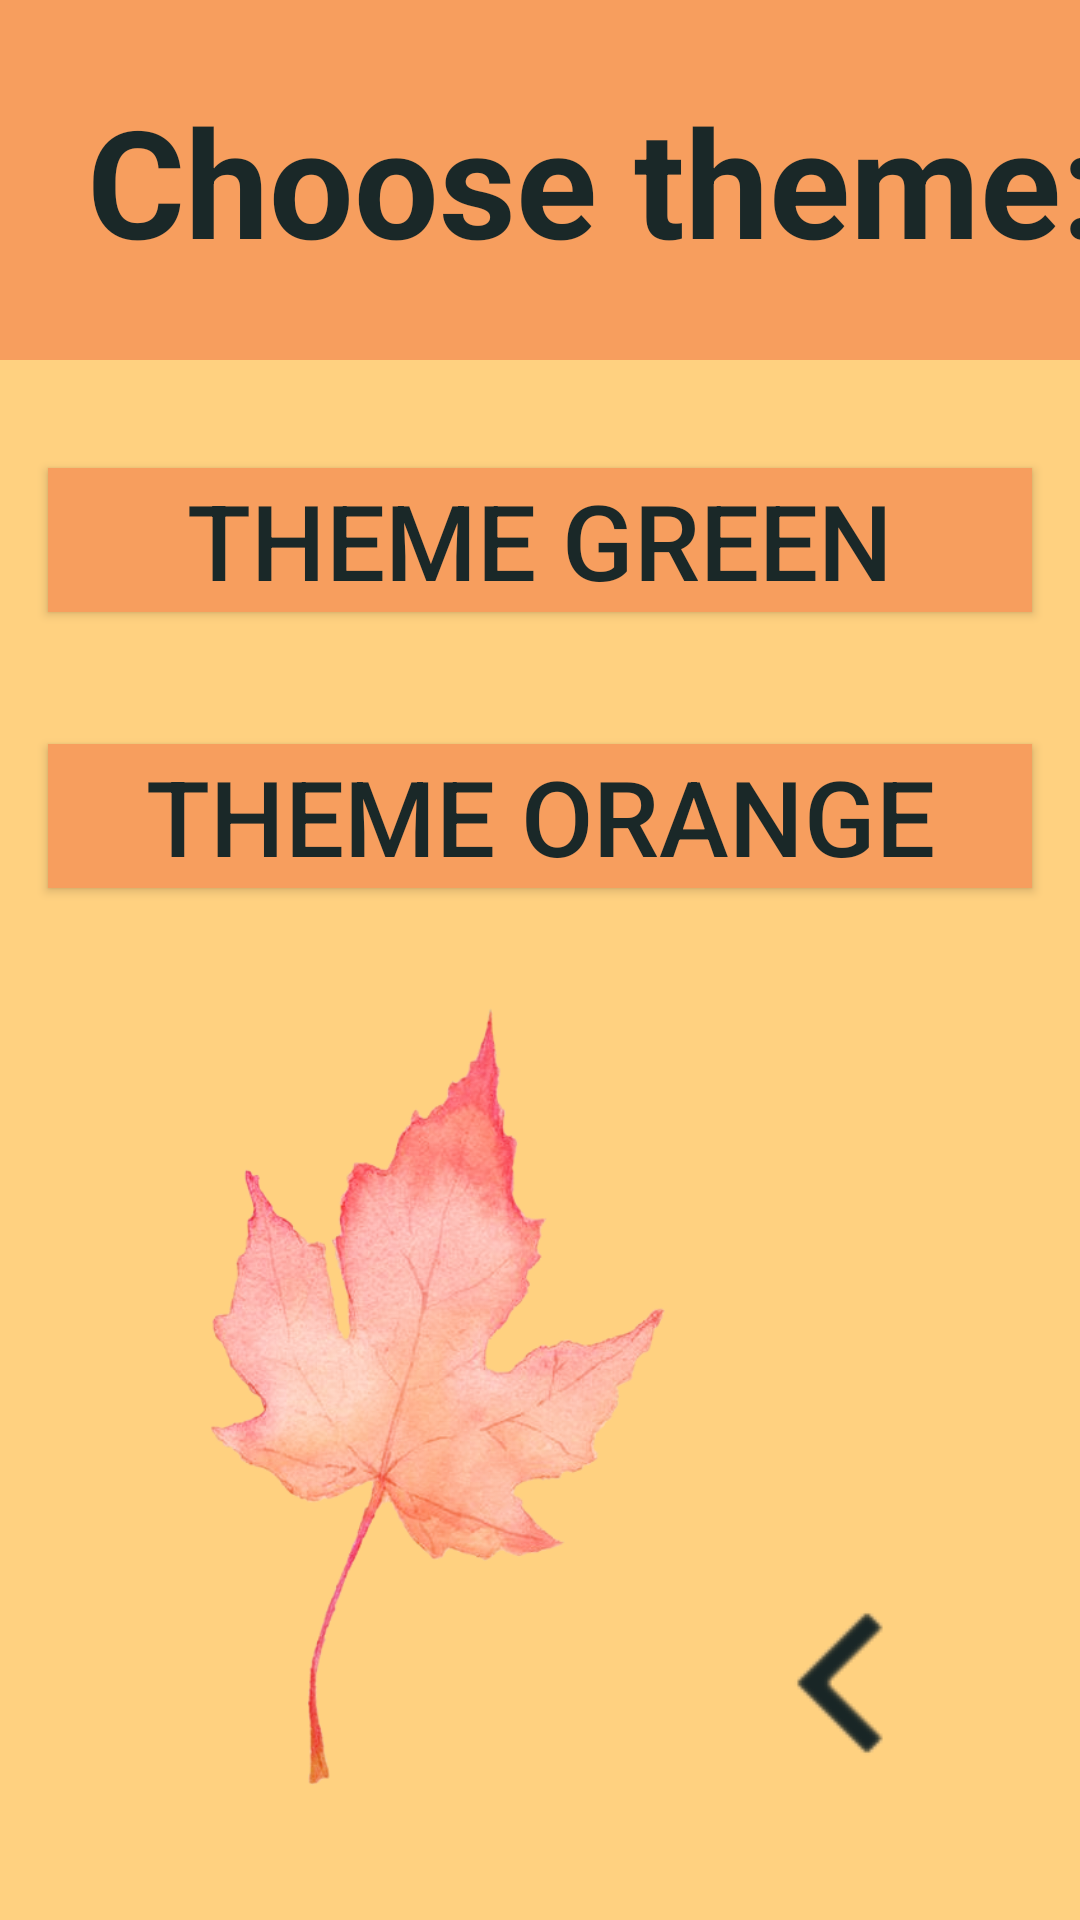

Named icons in this screenshot (1080px×1920px) and their bounding boxes, (x1,y1,x2,y2):
navigate before: (797,1613,883,1753)
